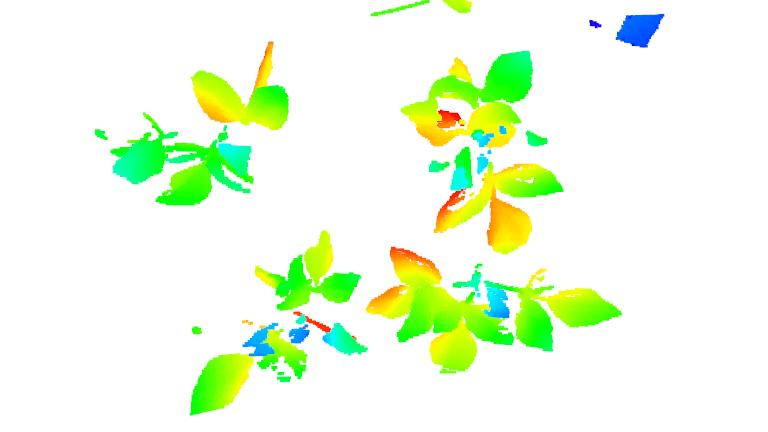mungbean: (394, 45, 571, 254), (365, 243, 627, 380), (180, 229, 368, 419), (106, 36, 292, 214)
